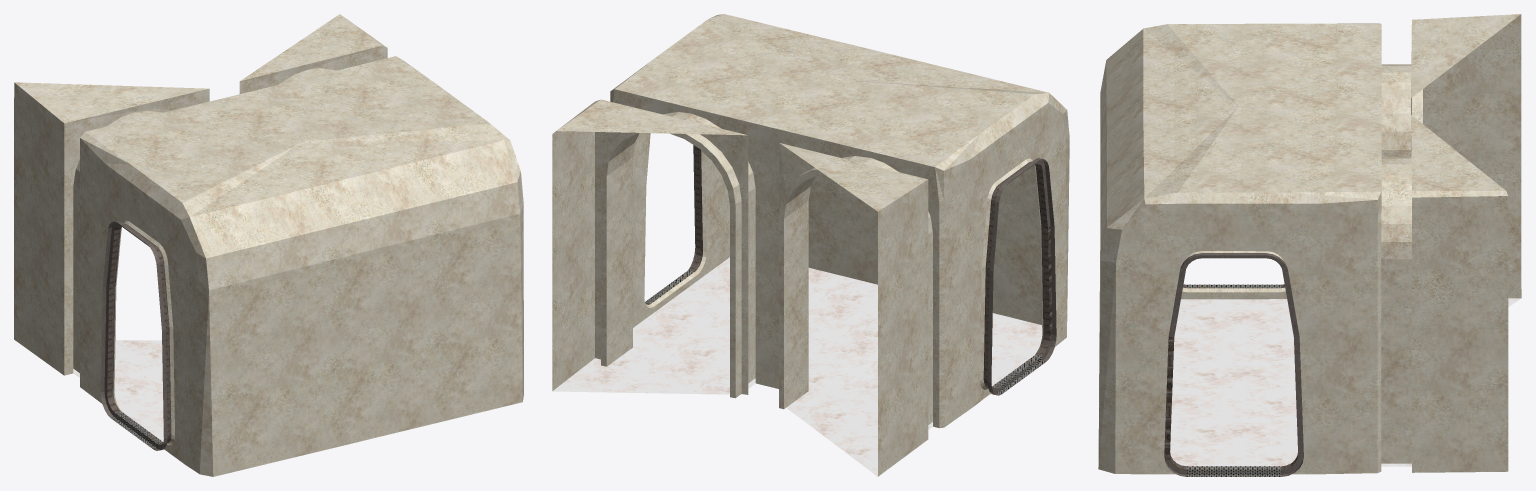
File: thm_tato_assoc_hall_civ_s02_r8_foyer2_mesh_r8.fbx
3 views of the same model, side by side, from view 1: azimuth 30°, elevation 25°; view 2: azimuth 150°, elevation 25°; view 3: azimuth 270°, elevation 25° (orthographic). The views are drawn at different scales.
Visible parts, largest first — view 1: mesh_node; view 2: mesh_node; view 3: mesh_node.
Part boxes in pixels (bbox=[...]): mesh_node: bbox=[14, 14, 523, 476]; mesh_node: bbox=[552, 14, 1069, 476]; mesh_node: bbox=[1098, 14, 1521, 476].
Size of the model in its own units: 5.82 by 4.09 by 5.51.
